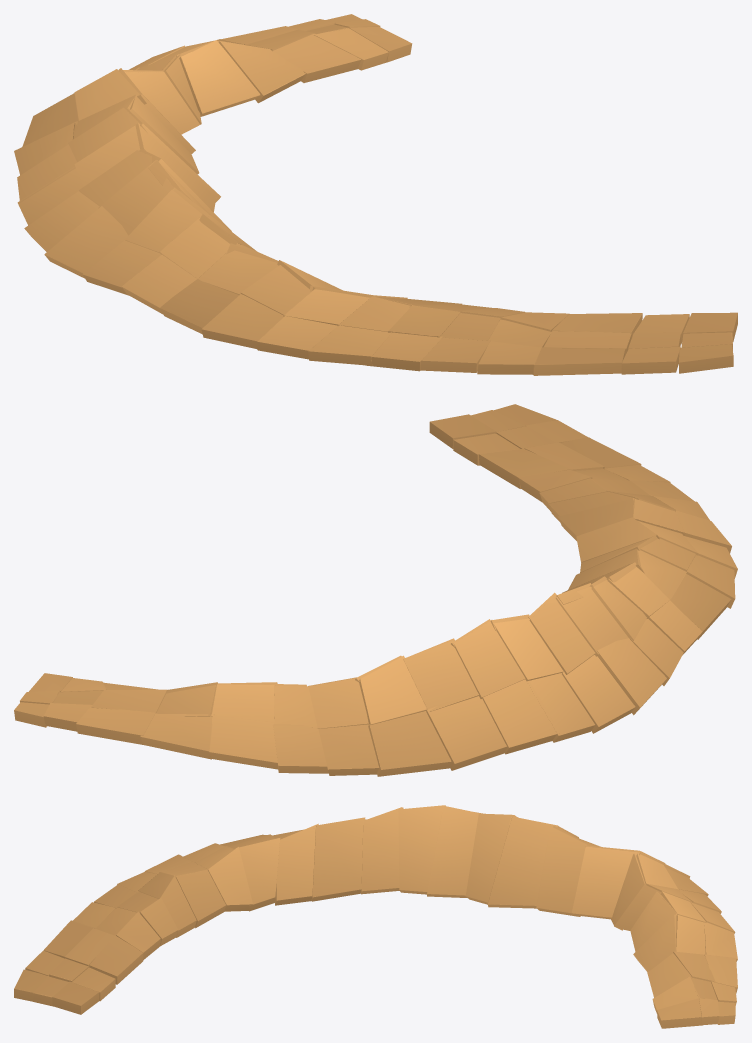
The model's file is dune.glb.
3 views of the same model, one above another, from view 1: azimuth 30°, elevation 25°; view 2: azimuth 150°, elevation 25°; view 3: azimuth 270°, elevation 25° (orthographic). The views are drawn at different scales.
Parts seen in each view (by area): view 1: dune.104; view 2: dune.104; view 3: dune.104.
Boxes of the visible parts, <box> form: dune.104: <box>14,14,737,375</box>; dune.104: <box>14,404,737,776</box>; dune.104: <box>14,805,737,1028</box>.
Size of the model in its own units: 9.27 by 1.66 by 14.75.
Materials: 1 (1 with a texture image).
